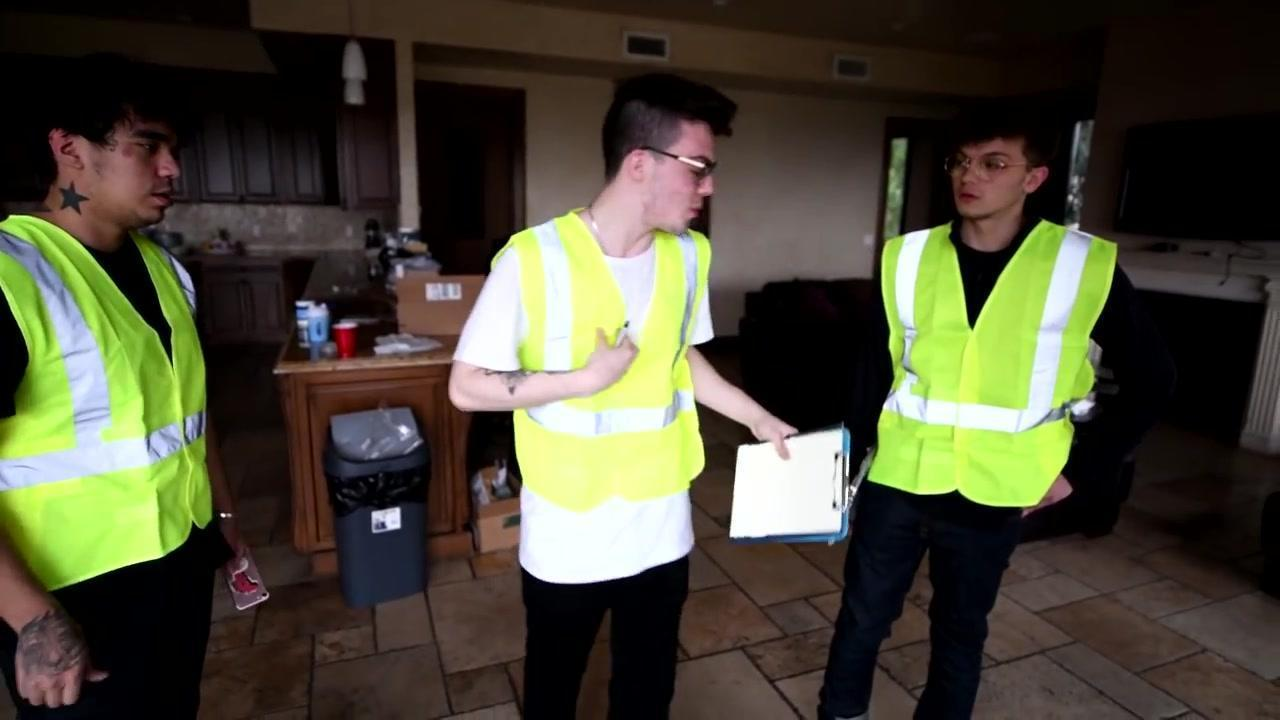vest: (1, 215, 214, 592), (874, 217, 1124, 506), (494, 208, 707, 509)
